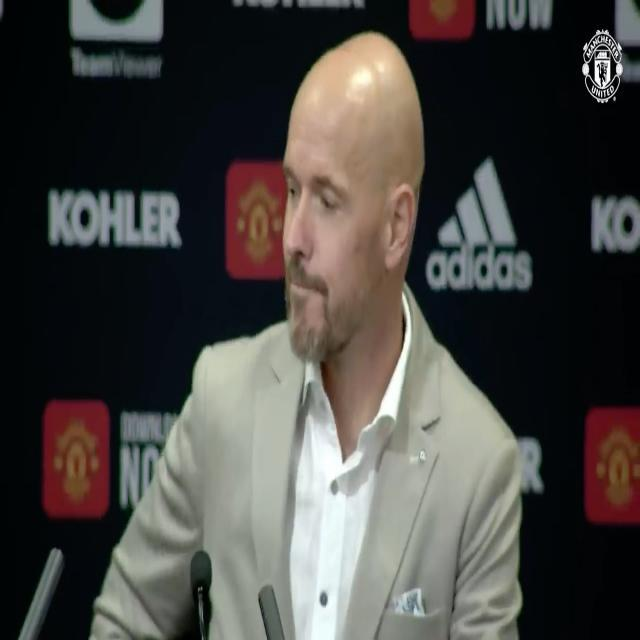Adidas: (426, 154, 533, 290)
Kohler: (48, 189, 182, 246)
TeamViewer: (71, 0, 163, 77)
